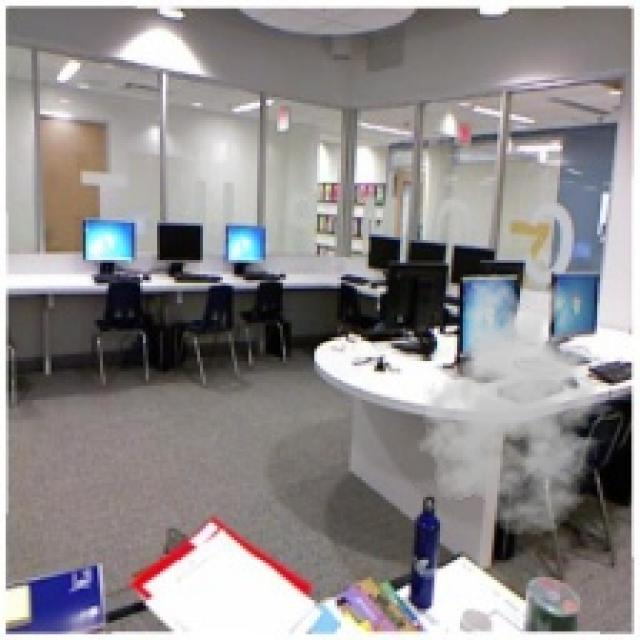smoke: (411, 272, 623, 537)
